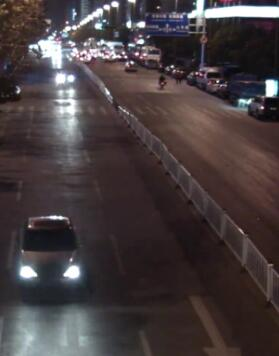bus: (134, 43, 160, 68), (95, 39, 124, 57), (127, 42, 138, 61)
car: (16, 214, 84, 296), (226, 70, 263, 107), (245, 95, 277, 119), (51, 68, 80, 89), (195, 67, 222, 88), (0, 81, 22, 102), (164, 62, 187, 78), (204, 77, 223, 94), (185, 70, 198, 85)
